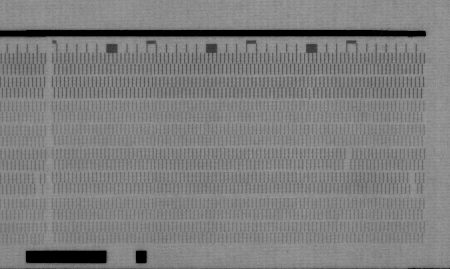Broken hole: (406, 171, 419, 196), (31, 173, 45, 195), (342, 148, 354, 170)
Oblique printing: (304, 87, 317, 102)
